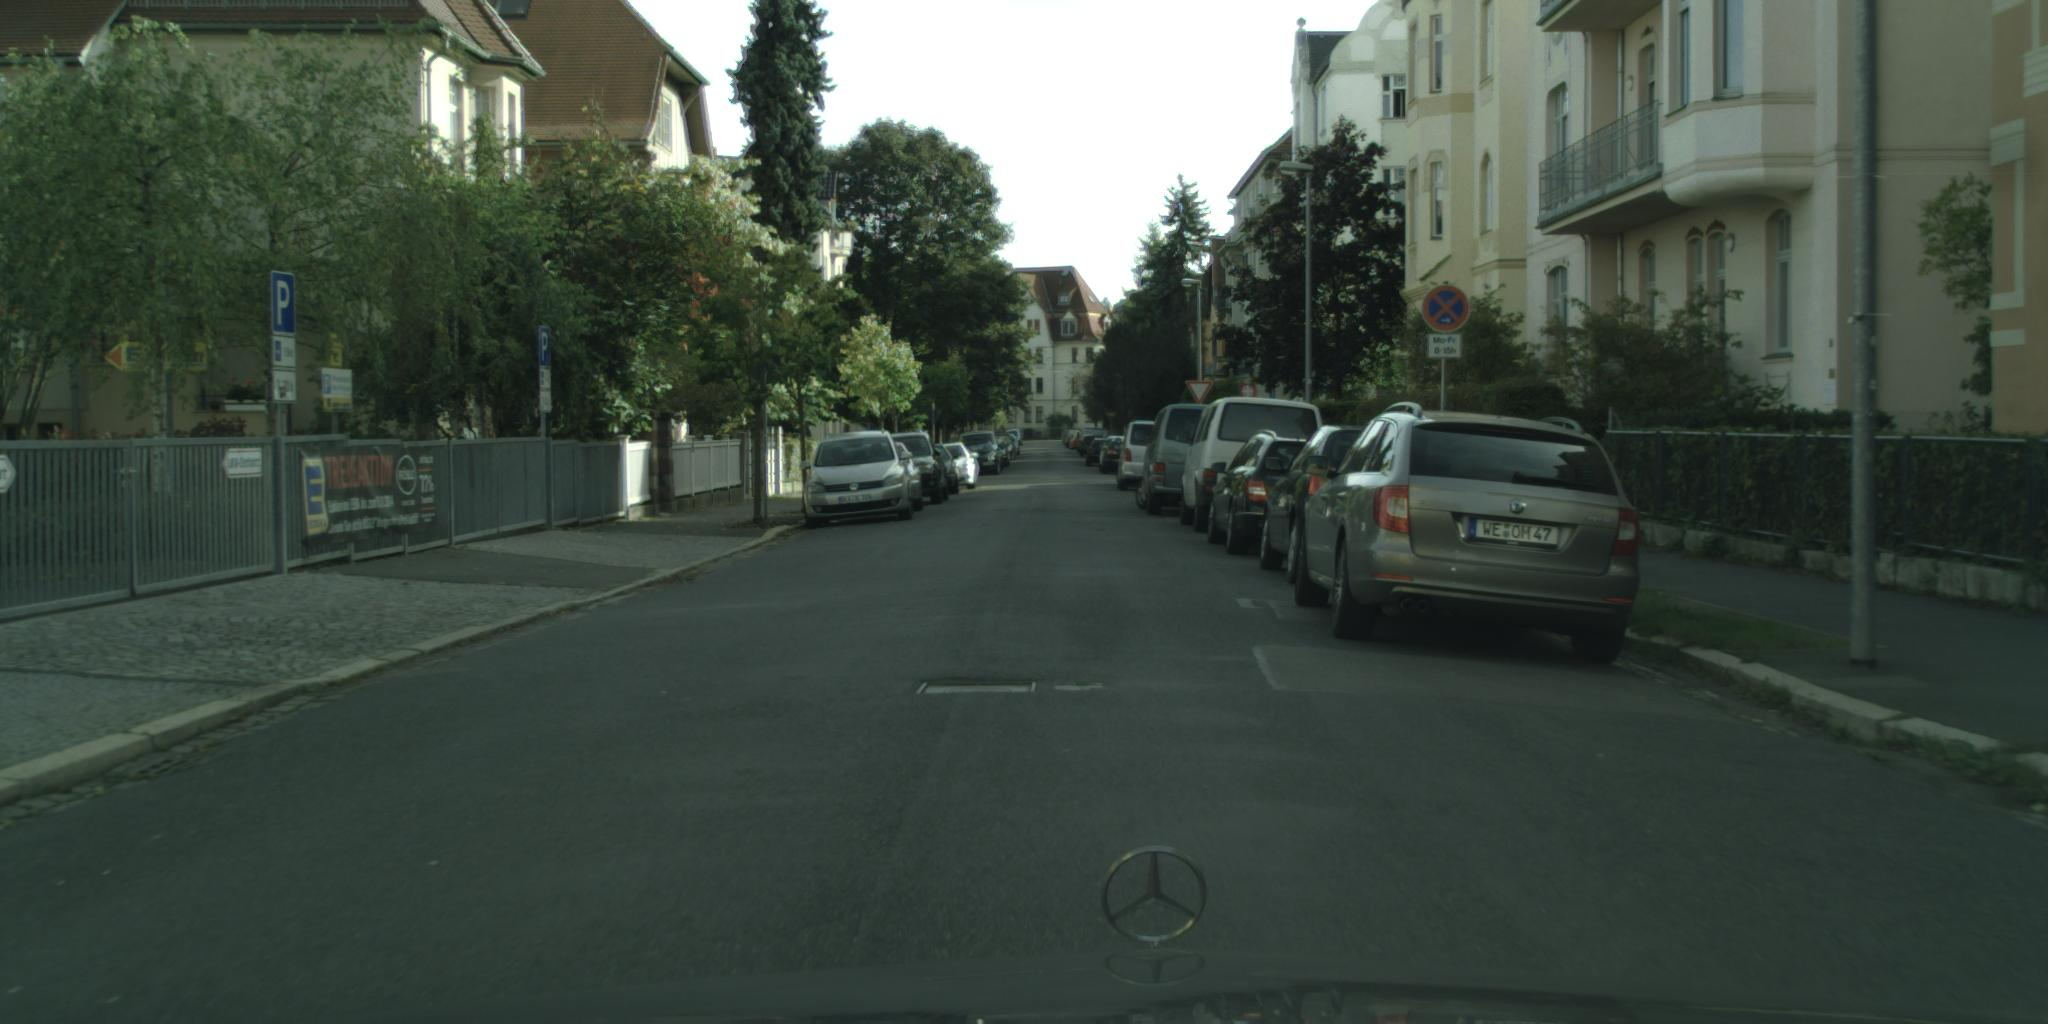car: (1294, 404, 1640, 666), (1174, 398, 1324, 536), (1259, 424, 1368, 583), (1207, 430, 1317, 556), (799, 430, 916, 532), (1136, 405, 1213, 517), (884, 434, 950, 507), (1114, 421, 1159, 492), (889, 441, 923, 513), (960, 431, 1000, 477), (944, 444, 981, 490), (933, 445, 960, 496), (1098, 438, 1127, 477), (1085, 438, 1110, 468), (1075, 435, 1098, 458)
